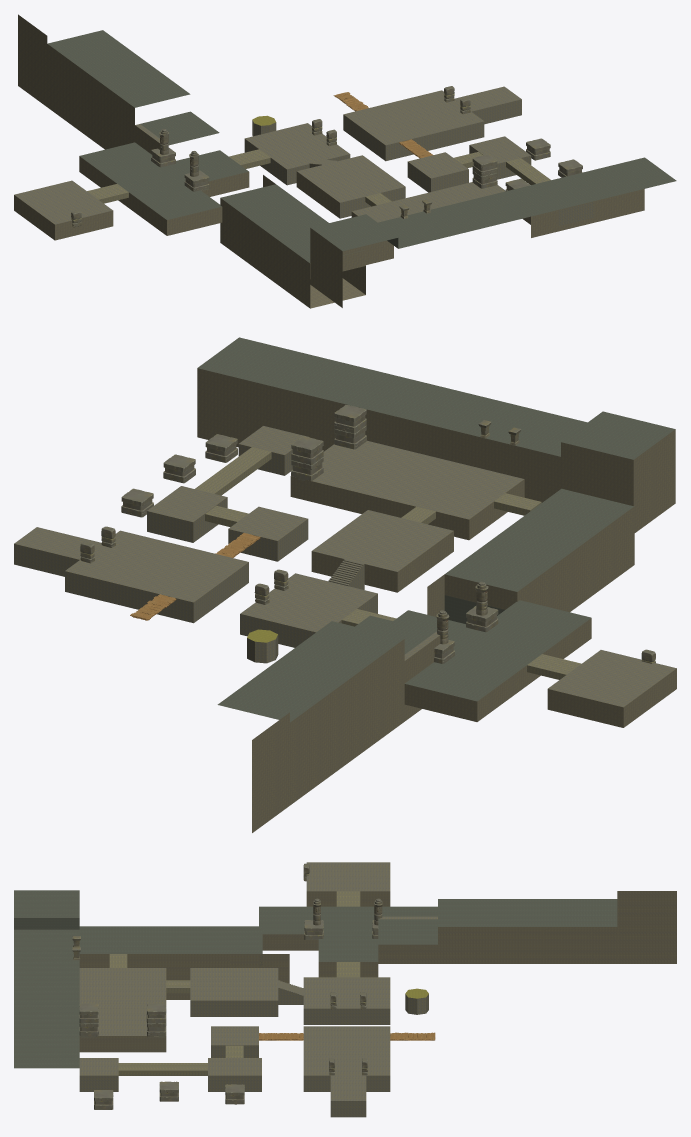
Rendered from Fortress_Section1_Test.fbx.
3 renders of one model, top to bottom at view 1: azimuth 30°, elevation 25°; view 2: azimuth 150°, elevation 25°; view 3: azimuth 270°, elevation 25°, orthographic. The views are drawn at different scales.
Visible parts, largest first — view 1: RightWall, Sect3EndRaisedCastle__5_, FortressEntrancePlatform, BigCastleWallLeft1, Section1EndPlatform_1_1, LeftWallFloor2, IntroPlatform_1, OpeningBrawlPlatform, PlatformFloor, Floor, RightWall_detach, Platform3 (+8 smaller); view 2: RightWall, Sect3EndRaisedCastle__5_, BigCastleWallLeft1, Section1EndPlatform_1_1, FortressEntrancePlatform, Floor, LeftWallFloor2, RightWall_detach, IntroPlatform_1, OpeningBrawlPlatform, PlatformFloor, Walls_1 (+14 smaller); view 3: BigCastleWallLeft1, RightWall, Sect3EndRaisedCastle__5_, FortressEntrancePlatform, Section1EndPlatform_1_1, LeftWallFloor2, Floor, OpeningBrawlPlatform, IntroPlatform_1, PlatformFloor, LeftWallFloor1, Platform2_1 (+13 smaller).
Part boxes in pixels (<box>): RightWall: <box>310,157,676,307</box>; Sect3EndRaisedCastle__5_: <box>220,175,365,308</box>; FortressEntrancePlatform: <box>79,142,249,235</box>; BigCastleWallLeft1: <box>18,14,159,154</box>; Section1EndPlatform_1_1: <box>343,86,521,161</box>; LeftWallFloor2: <box>47,30,190,107</box>; IntroPlatform_1: <box>14,180,113,240</box>; OpeningBrawlPlatform: <box>244,123,350,185</box>; PlatformFloor: <box>297,155,405,202</box>; Floor: <box>352,182,505,222</box>; RightWall_detach: <box>531,189,644,237</box>; Platform3: <box>407,152,468,192</box>; RightWall: <box>197,337,675,532</box>; Sect3EndRaisedCastle__5_: <box>427,488,634,623</box>; BigCastleWallLeft1: <box>252,635,440,832</box>; Section1EndPlatform_1_1: <box>14,527,248,623</box>; FortressEntrancePlatform: <box>393,600,591,721</box>; Floor: <box>291,440,523,519</box>; LeftWallFloor2: <box>217,621,404,722</box>; RightWall_detach: <box>197,368,345,451</box>; IntroPlatform_1: <box>547,650,676,727</box>; OpeningBrawlPlatform: <box>240,573,377,647</box>; PlatformFloor: <box>312,510,453,571</box>; Walls_1: <box>290,476,524,540</box>; BigCastleWallLeft1: <box>378,891,676,963</box>; RightWall: <box>14,890,79,1068</box>; Sect3EndRaisedCastle__5_: <box>79,926,289,999</box>; FortressEntrancePlatform: <box>259,906,437,977</box>; Section1EndPlatform_1_1: <box>303,1026,390,1117</box>; LeftWallFloor2: <box>438,899,617,926</box>; Floor: <box>79,968,166,1035</box>; OpeningBrawlPlatform: <box>303,977,390,1024</box>; IntroPlatform_1: <box>306,862,390,906</box>; PlatformFloor: <box>190,968,278,1000</box>; LeftWallFloor1: <box>378,916,437,944</box>; Platform2_1: <box>208,1058,261,1091</box>.
Size of the model in its own units: 9450 by 1520 by 11100.
